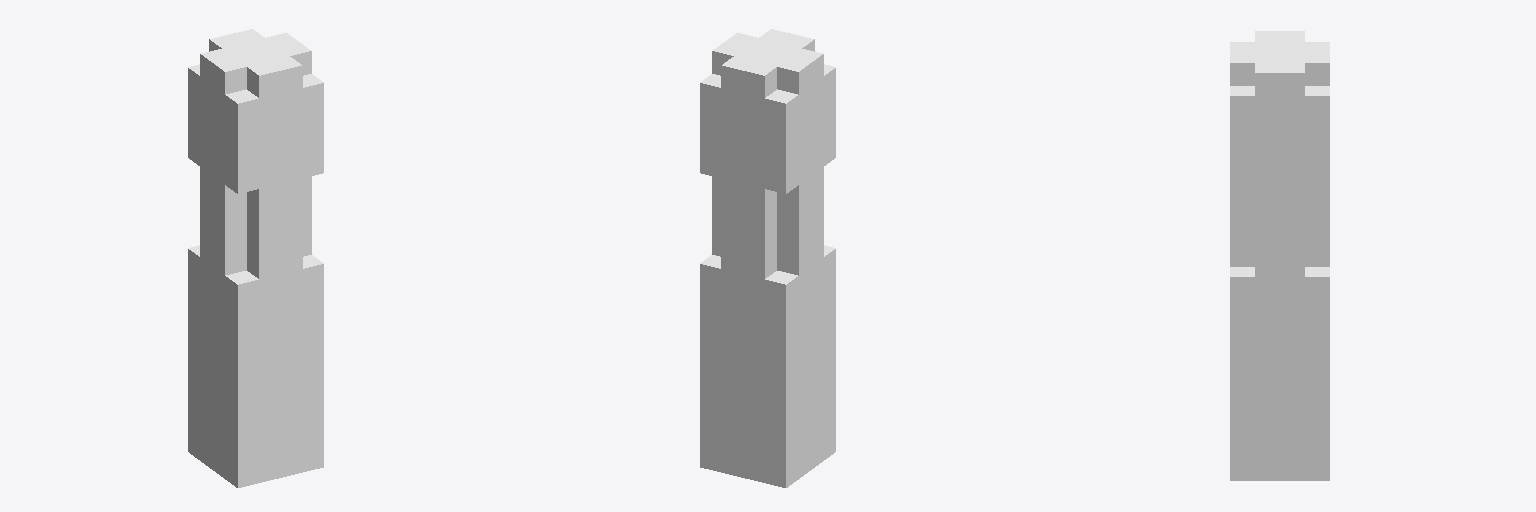
The model's file is fence_pole.obj.
3 views of the same model, side by side, from view 1: azimuth 30°, elevation 25°; view 2: azimuth 150°, elevation 25°; view 3: azimuth 270°, elevation 25° (orthographic).
Visible parts, largest first — view 1: object 1; view 2: object 1; view 3: object 1.
Part boxes in pixels (bbox=[...]): object 1: bbox=[188, 29, 323, 487]; object 1: bbox=[700, 29, 835, 487]; object 1: bbox=[1230, 31, 1329, 480].
Bounding box in the file's own units: 0.4 × 1.8 × 0.4.